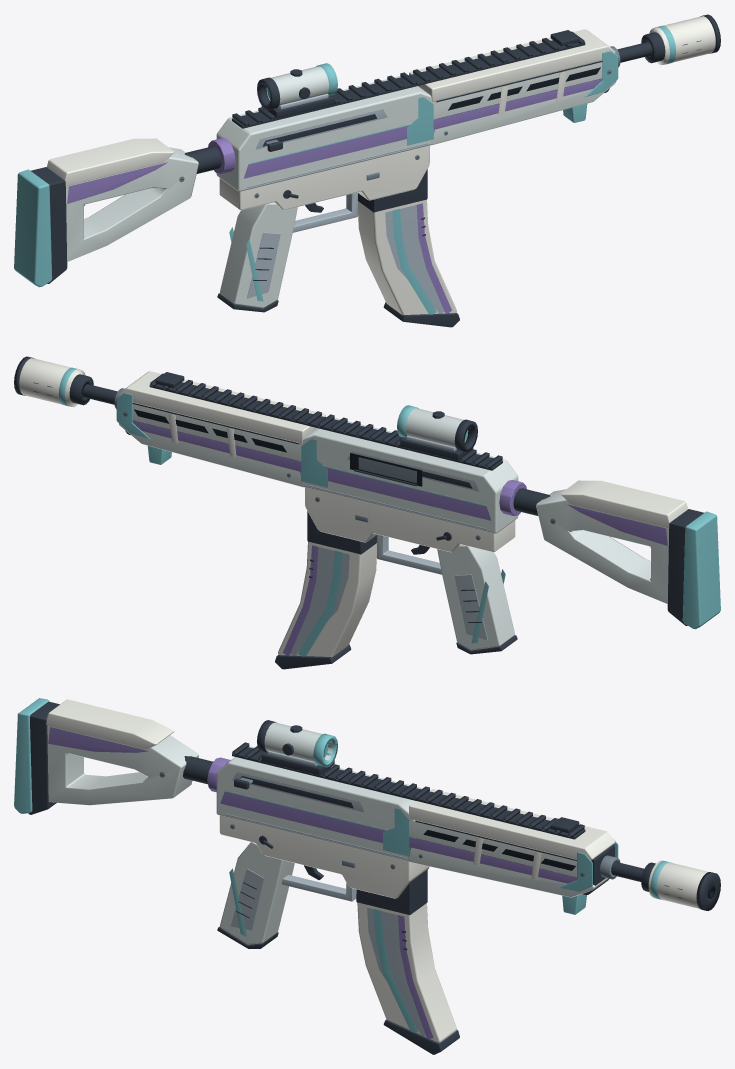
The model's file is SM_Mint_AR_Heavy.glb.
3 views of the same model, one above another, from view 1: azimuth 30°, elevation 25°; view 2: azimuth 150°, elevation 25°; view 3: azimuth 330°, elevation 25° (orthographic).
Visible parts, largest first — view 1: SM_Mint_AR_Heavy; view 2: SM_Mint_AR_Heavy; view 3: SM_Mint_AR_Heavy.
Part boxes in pixels (box(x1,y1,x2,y2)): SM_Mint_AR_Heavy: box(14, 14, 720, 327); SM_Mint_AR_Heavy: box(14, 356, 720, 669); SM_Mint_AR_Heavy: box(14, 698, 720, 1054).
Bounding box in the file's own units: 0.9006 × 0.356 × 0.072.
